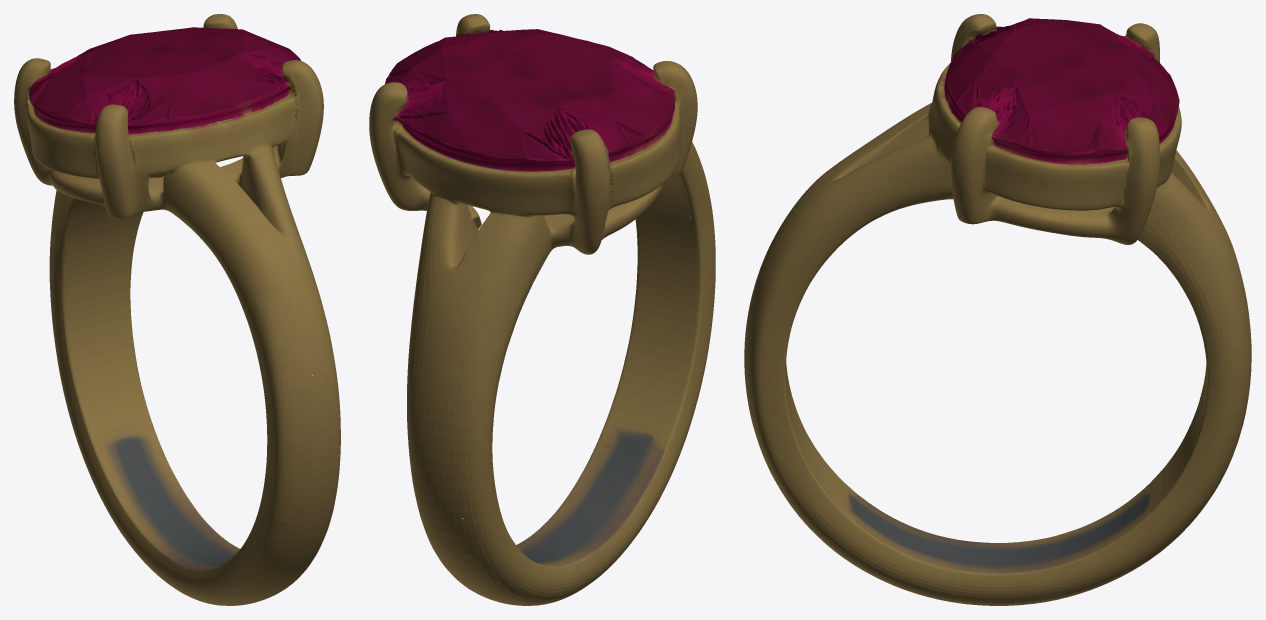
Rendered from ring2.glb.
3 renders of one model, left to right at view 1: azimuth 30°, elevation 25°; view 2: azimuth 150°, elevation 25°; view 3: azimuth 270°, elevation 25°, orthographic. The views are drawn at different scales.
Parts seen in each view (by area): view 1: tripo_node_f910d2c5-4ccb-4e03-aa08-1292479e897d; view 2: tripo_node_f910d2c5-4ccb-4e03-aa08-1292479e897d; view 3: tripo_node_f910d2c5-4ccb-4e03-aa08-1292479e897d.
Part boxes in pixels (x1,y1,x2,y2): tripo_node_f910d2c5-4ccb-4e03-aa08-1292479e897d: (14, 14, 340, 605); tripo_node_f910d2c5-4ccb-4e03-aa08-1292479e897d: (369, 14, 715, 605); tripo_node_f910d2c5-4ccb-4e03-aa08-1292479e897d: (744, 14, 1251, 605).
Bounding box in the file's own units: 0.5161 × 1 × 0.8423.
1 material, 1 textured.
